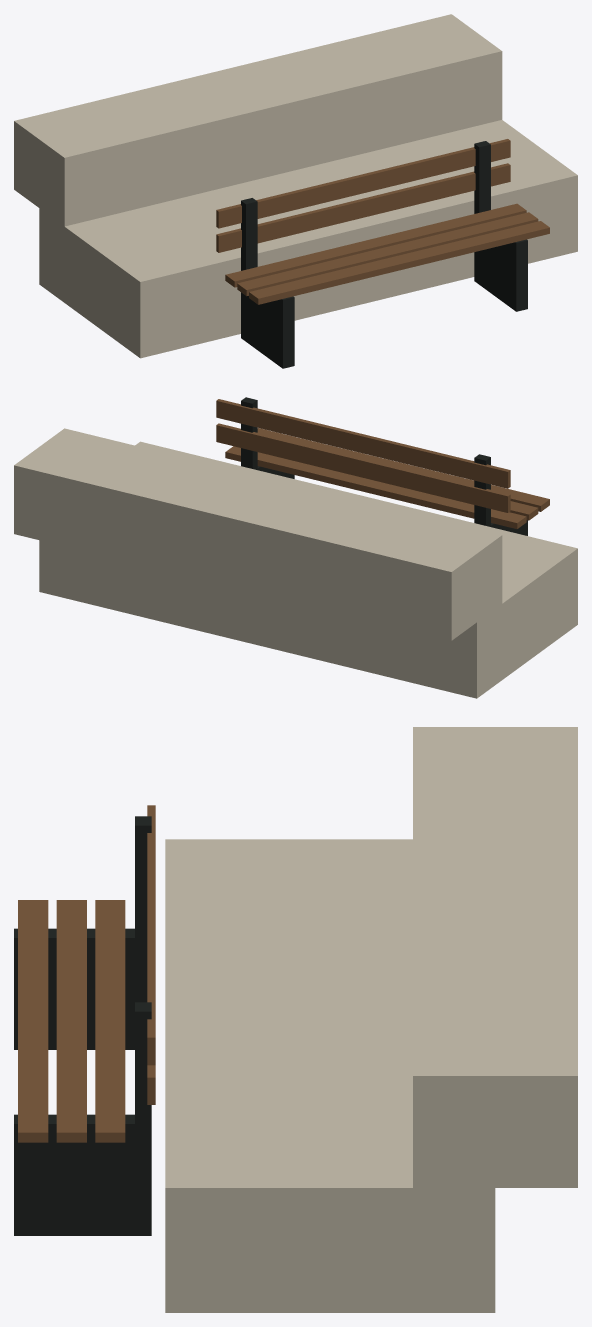
File: lakefront_trail_bench.glb
The picture shows the model from 3 angles, top to bottom: view 1: azimuth 30°, elevation 25°; view 2: azimuth 150°, elevation 25°; view 3: azimuth 270°, elevation 25°; orthographic projection. The views are drawn at different scales.
Parts seen in each view (by area): view 1: lakefront_trail_bench; view 2: lakefront_trail_bench; view 3: lakefront_trail_bench.
Part boxes in pixels (x1,y1,x2,y2): lakefront_trail_bench: (14, 14, 577, 368); lakefront_trail_bench: (14, 397, 577, 698); lakefront_trail_bench: (14, 727, 577, 1312).
Size of the model in its own units: 3 by 0.9501 by 2.05.
Materials: 1 (1 with a texture image).
